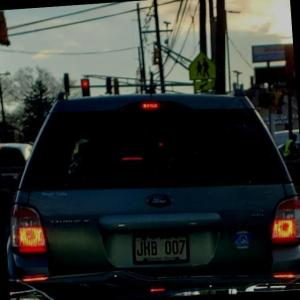Plate: (132, 231, 190, 264)
